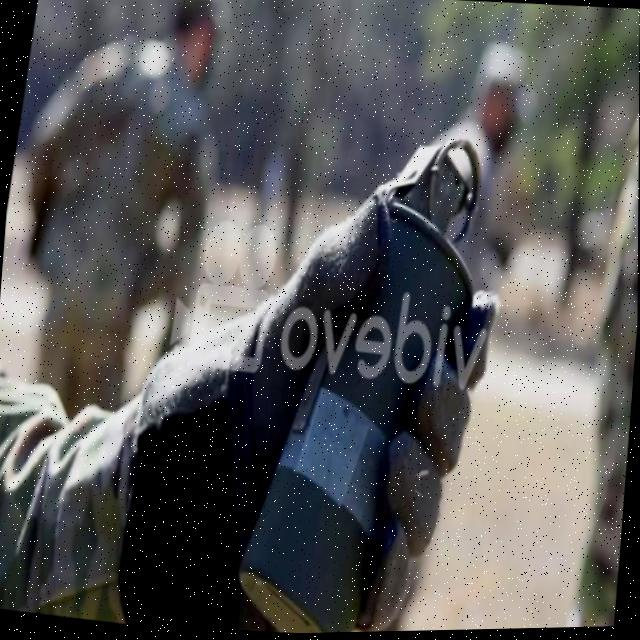grenade: (227, 104, 514, 636)
